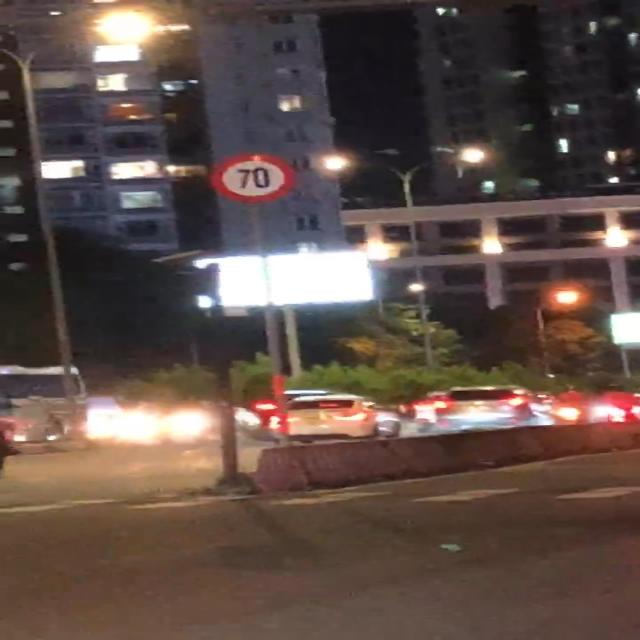Bien bao toc do toi da cho phep: (202, 148, 308, 206)
